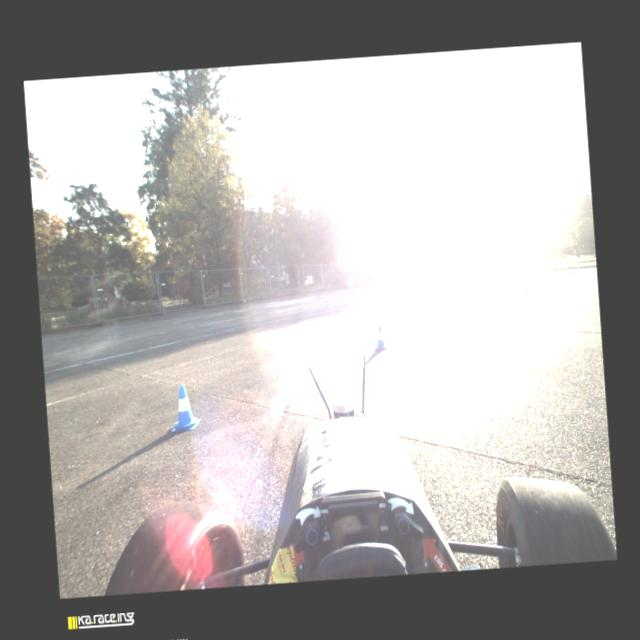blue_cone: (167, 382, 201, 431), (372, 324, 388, 351), (392, 295, 397, 306), (366, 292, 372, 300), (366, 288, 370, 296), (381, 285, 384, 291), (565, 267, 568, 273)
unknown_cone: (404, 273, 409, 283)
yellow_cone: (522, 287, 530, 299), (570, 269, 575, 277)
